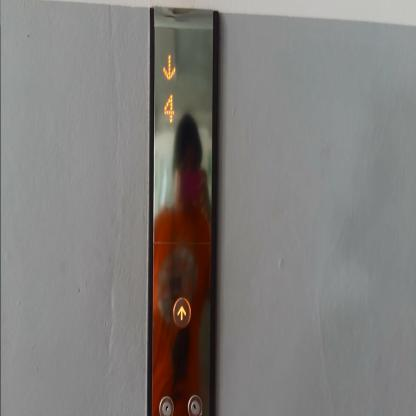keyhole: (184, 390, 204, 416), (158, 390, 174, 416)
up: (172, 292, 191, 332)
